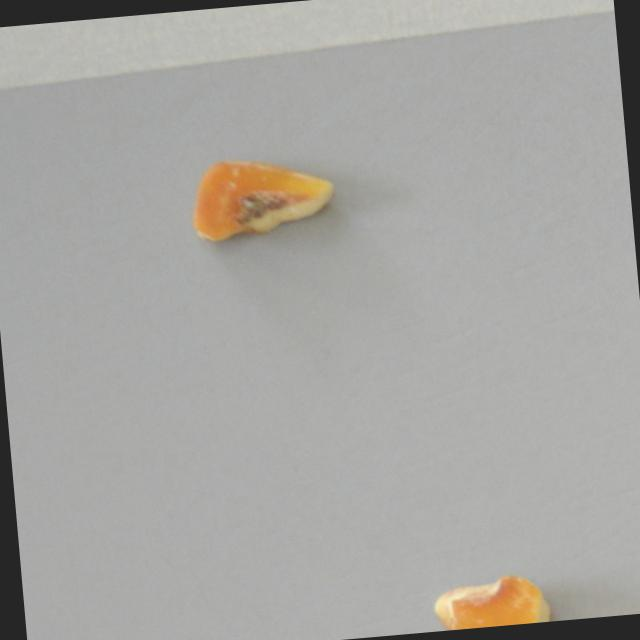dañado: (185, 143, 339, 246), (428, 571, 552, 631)
